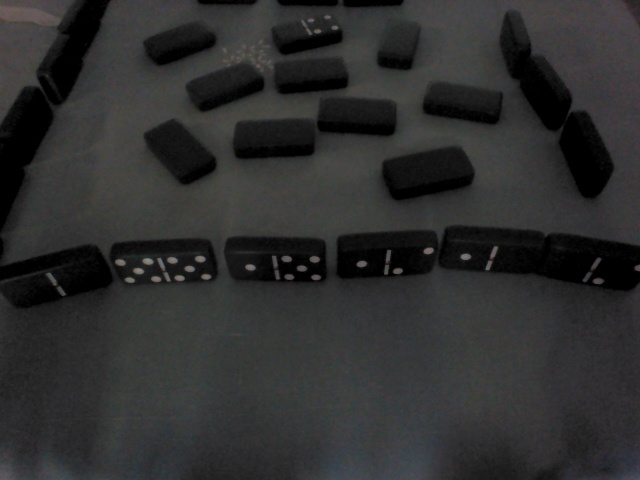A: (138, 115, 219, 191), (381, 146, 484, 202), (419, 77, 506, 131), (181, 59, 268, 112), (311, 94, 404, 139), (228, 116, 321, 160), (138, 18, 226, 61), (372, 16, 428, 76), (270, 55, 353, 93)
B: (259, 10, 353, 53)
D: (553, 107, 618, 206), (514, 51, 574, 133), (489, 10, 532, 81)
E: (3, 250, 112, 317), (542, 232, 640, 302), (440, 221, 543, 286), (216, 233, 329, 292), (336, 228, 439, 290), (103, 241, 222, 290)
